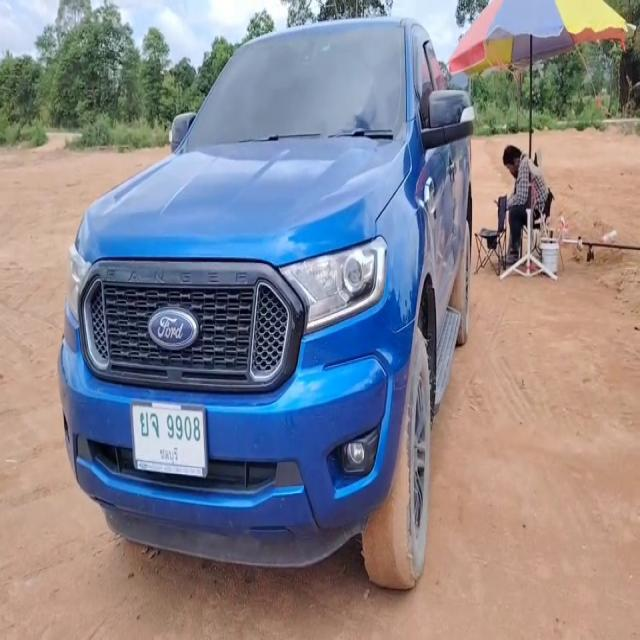Digit: (166, 413, 201, 442)
Licenseplate: (131, 402, 207, 477)
Provincename: (159, 444, 166, 469)
Thaichar: (140, 412, 160, 439)
